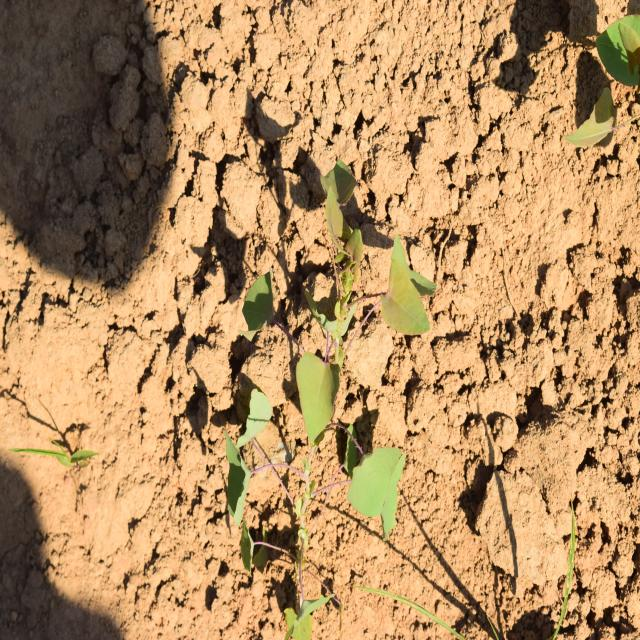Asiatic_Smartweed: (238, 171, 446, 344), (226, 349, 420, 515)
